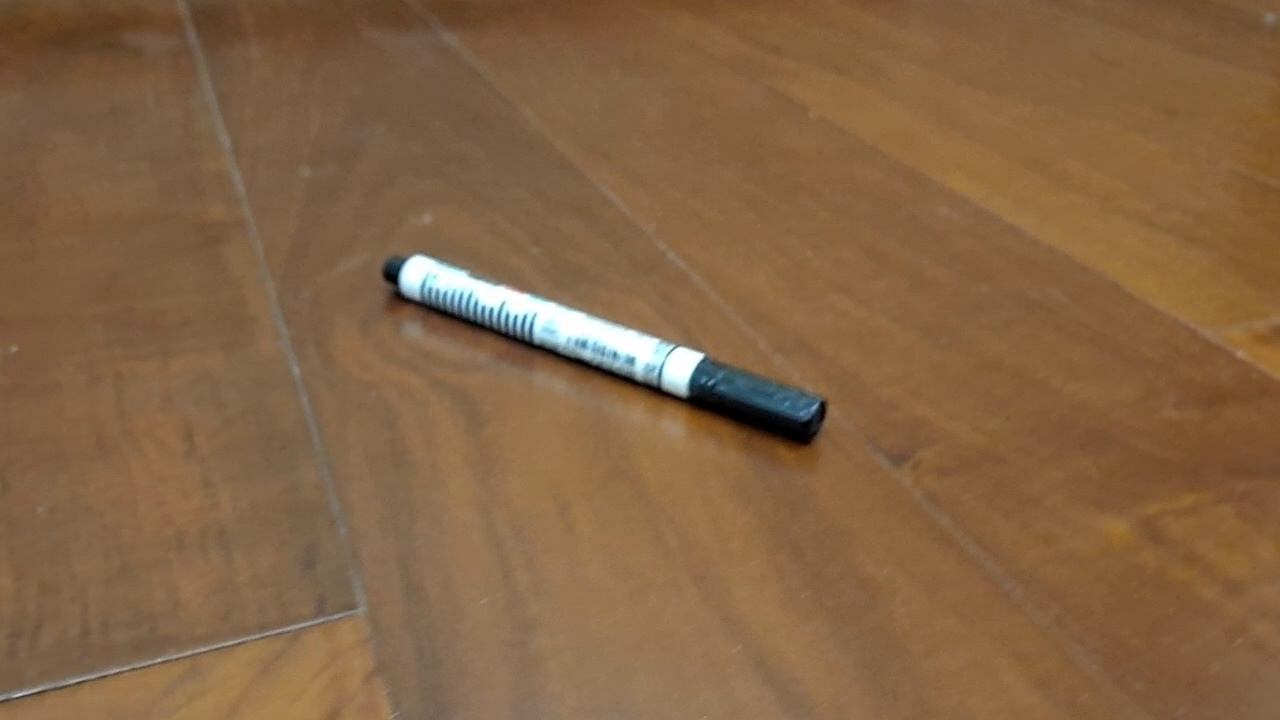pen: (380, 250, 828, 446)
